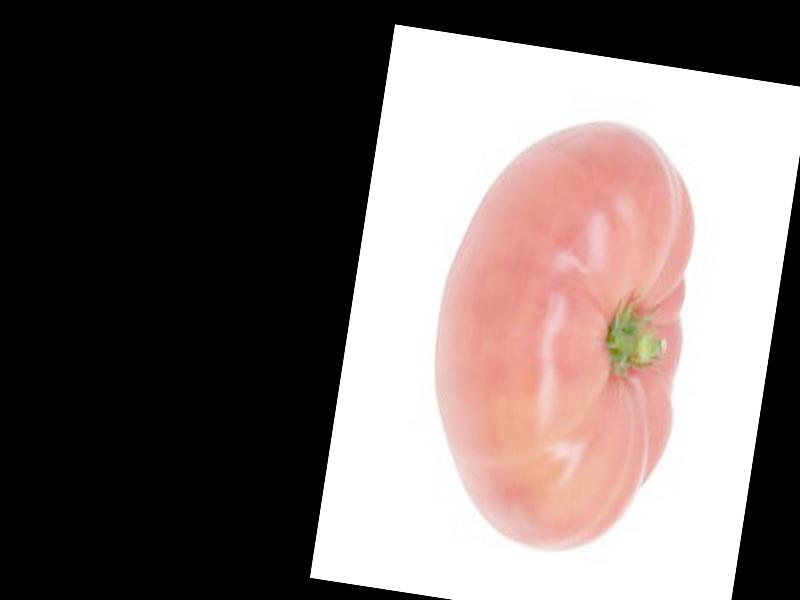Tomato: (408, 102, 710, 566)
